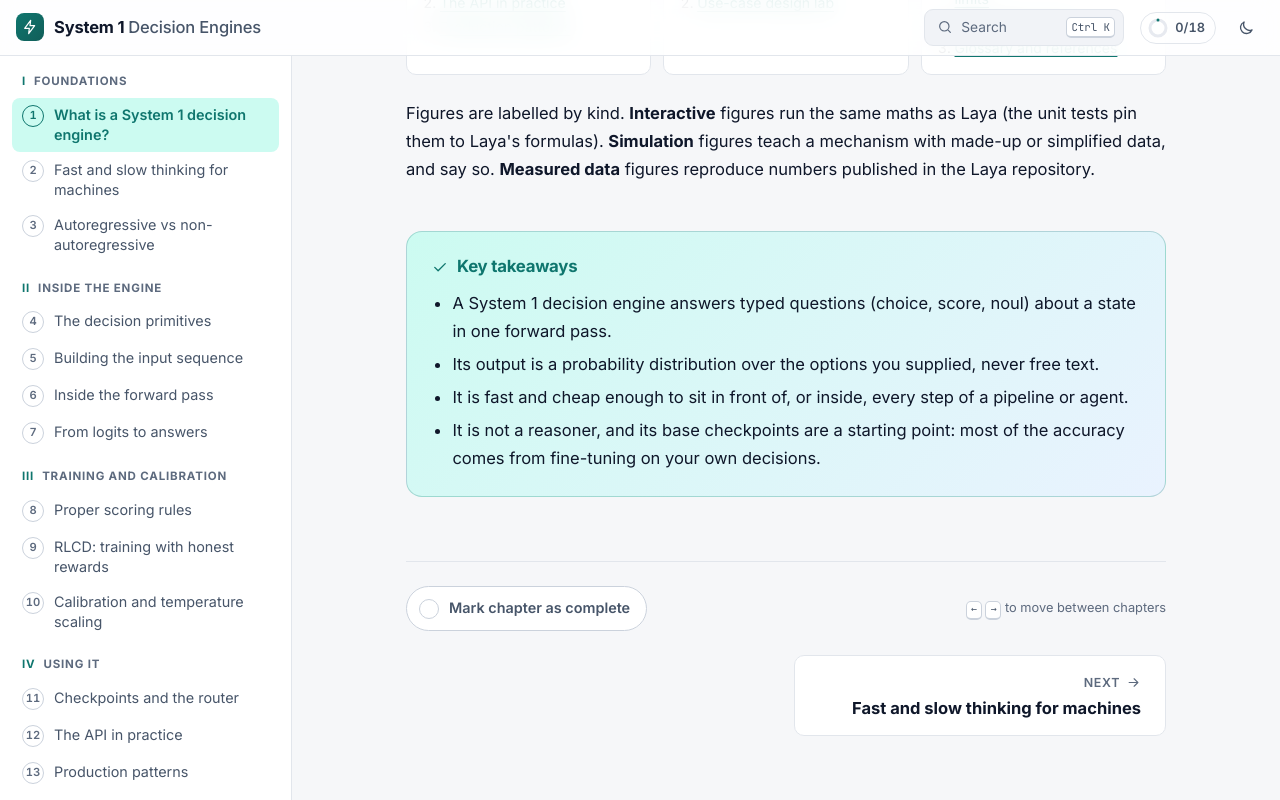
it: App shell › toggles completion from the chapter footer
The width and height of the screenshot is (1280, 800).
(page scrolled)
Click the button "Mark chapter as complete" at (527, 609), box x1=406 y1=586 x2=647 y2=631
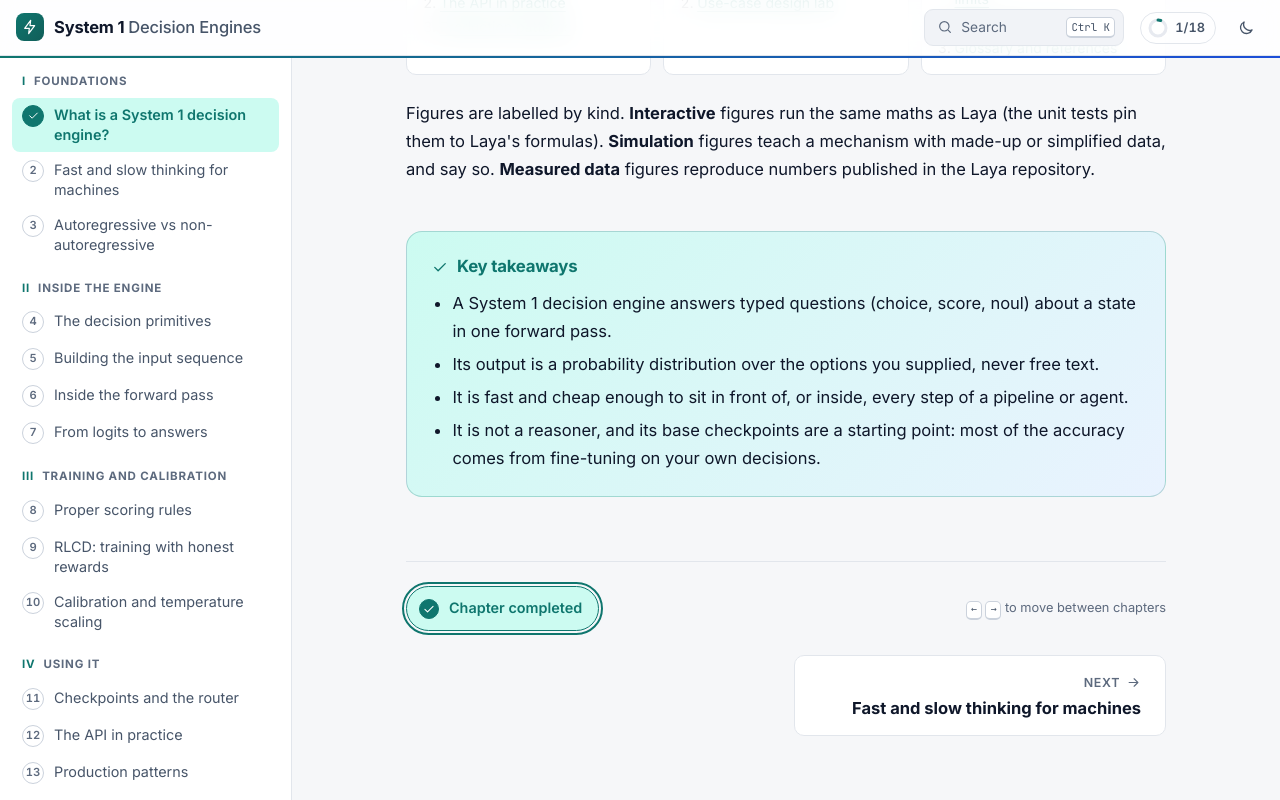
Now the button "Chapter completed" is shown, box x1=406 y1=586 x2=599 y2=631
